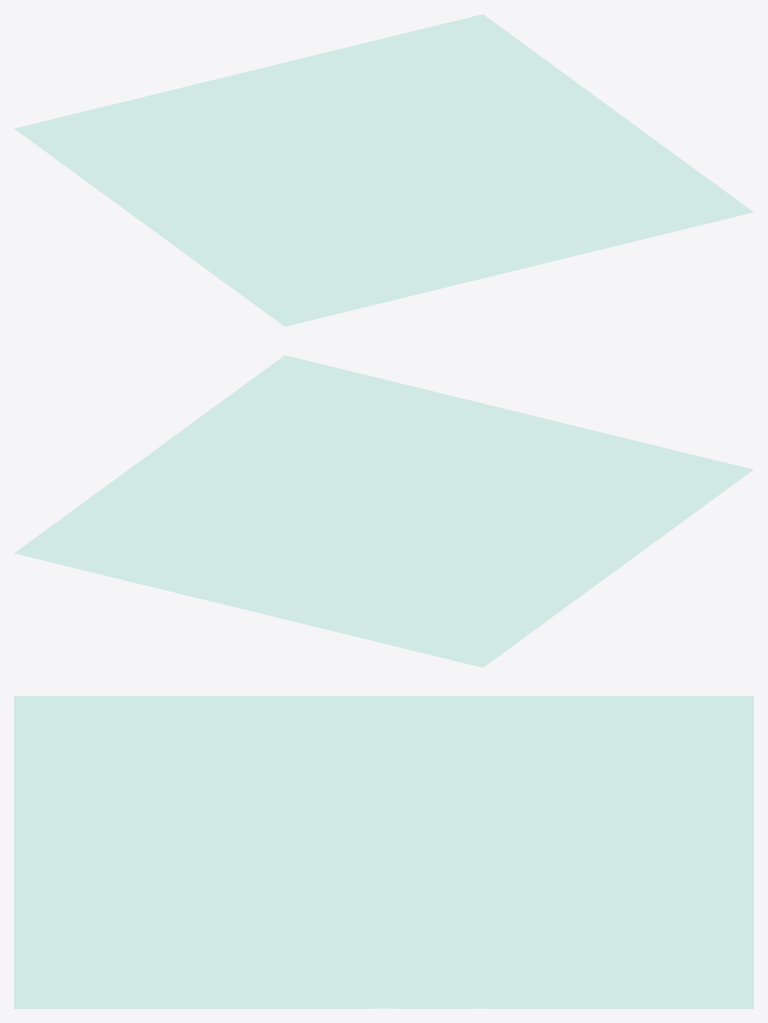
The model's file is Isle_water.glb.
3 views of the same model, one above another, from view 1: azimuth 30°, elevation 25°; view 2: azimuth 150°, elevation 25°; view 3: azimuth 270°, elevation 25° (orthographic). The views are drawn at different scales.
Parts seen in each view (by area): view 1: Ground.002; view 2: Ground.002; view 3: Ground.002.
Boxes of the visible parts, x1=… form: Ground.002: x1=15, y1=14, x2=752, y2=326; Ground.002: x1=15, y1=355, x2=752, y2=667; Ground.002: x1=14, y1=696, x2=753, y2=1008.
Size of the model in its own units: 238 by 0.00436 by 238.
